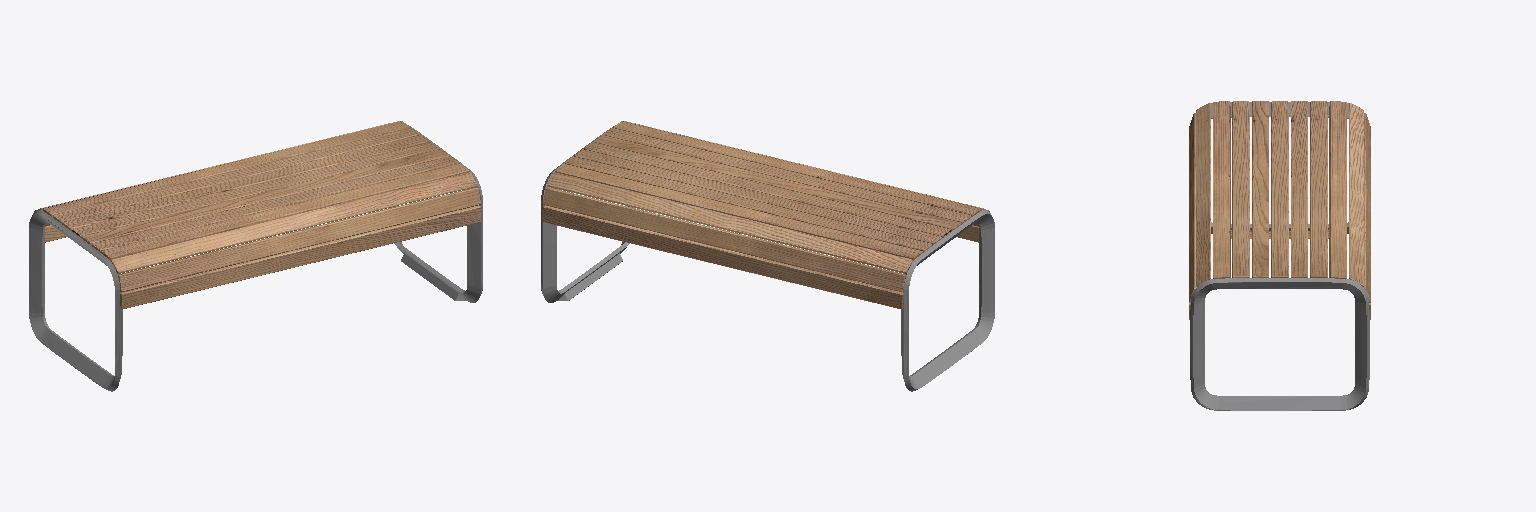
The picture shows the model from 3 angles: view 1: azimuth 30°, elevation 25°; view 2: azimuth 150°, elevation 25°; view 3: azimuth 270°, elevation 25°; orthographic projection.
Visible parts, largest first — view 1: Modern_Bench_1; view 2: Modern_Bench_1; view 3: Modern_Bench_1.
Part boxes in pixels (left/top/right/bottom): Modern_Bench_1: left=29, top=121, right=482, bottom=391; Modern_Bench_1: left=541, top=121, right=994, bottom=391; Modern_Bench_1: left=1189, top=101, right=1370, bottom=410.
Size of the model in its own units: 13.33 by 4.66 by 5.73.
2 materials, 1 textured.